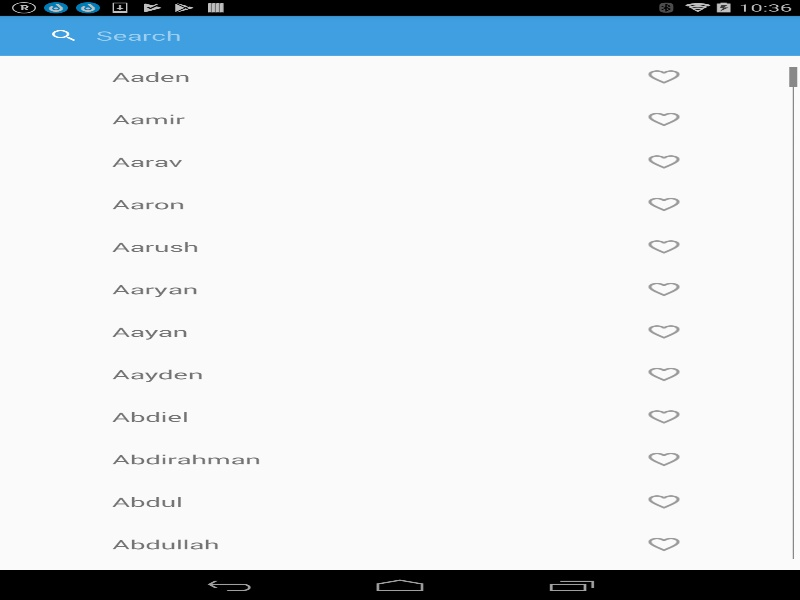Input: (85, 24, 768, 46)
